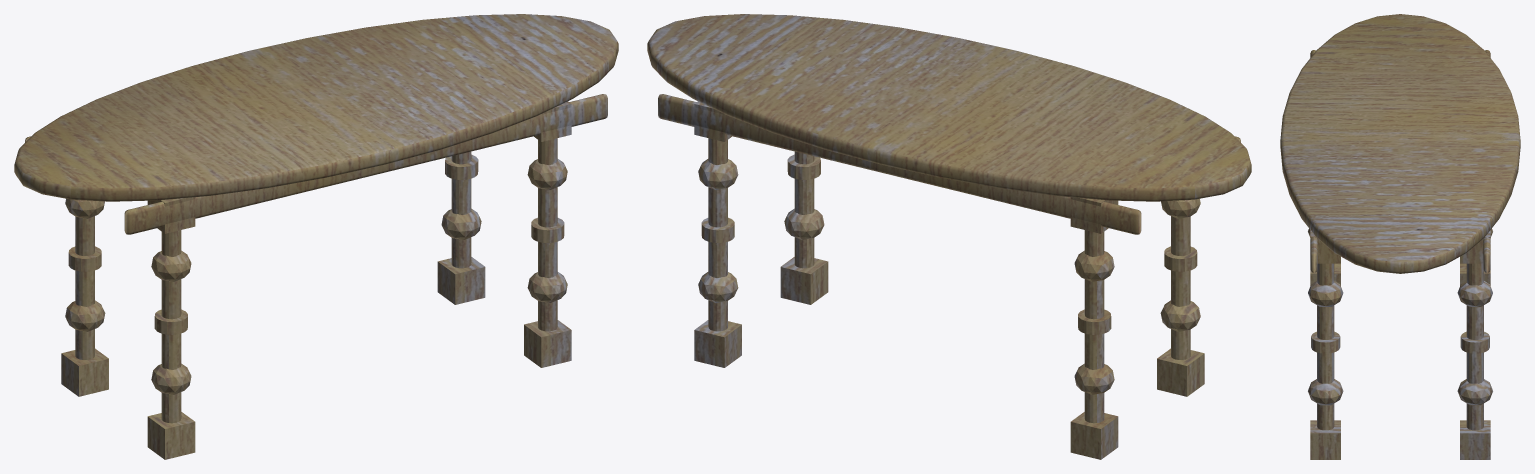
Rendered from Antique_Table_07.fbx.
3 views of the same model, side by side, from view 1: azimuth 30°, elevation 25°; view 2: azimuth 150°, elevation 25°; view 3: azimuth 270°, elevation 25° (orthographic). The views are drawn at different scales.
Visible parts, largest first — view 1: Antique_Table; view 2: Antique_Table; view 3: Antique_Table.
Part boxes in pixels (<box>): Antique_Table: <box>14,14,618,459</box>; Antique_Table: <box>647,14,1251,459</box>; Antique_Table: <box>1280,14,1520,459</box>.
Size of the model in its own units: 1.99 by 0.88 by 0.81.
1 material, 1 textured.
